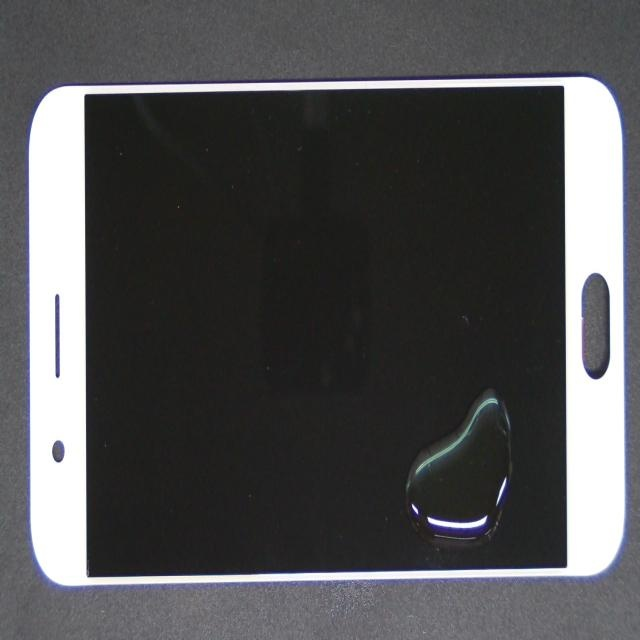oil: (232, 314, 640, 640)
